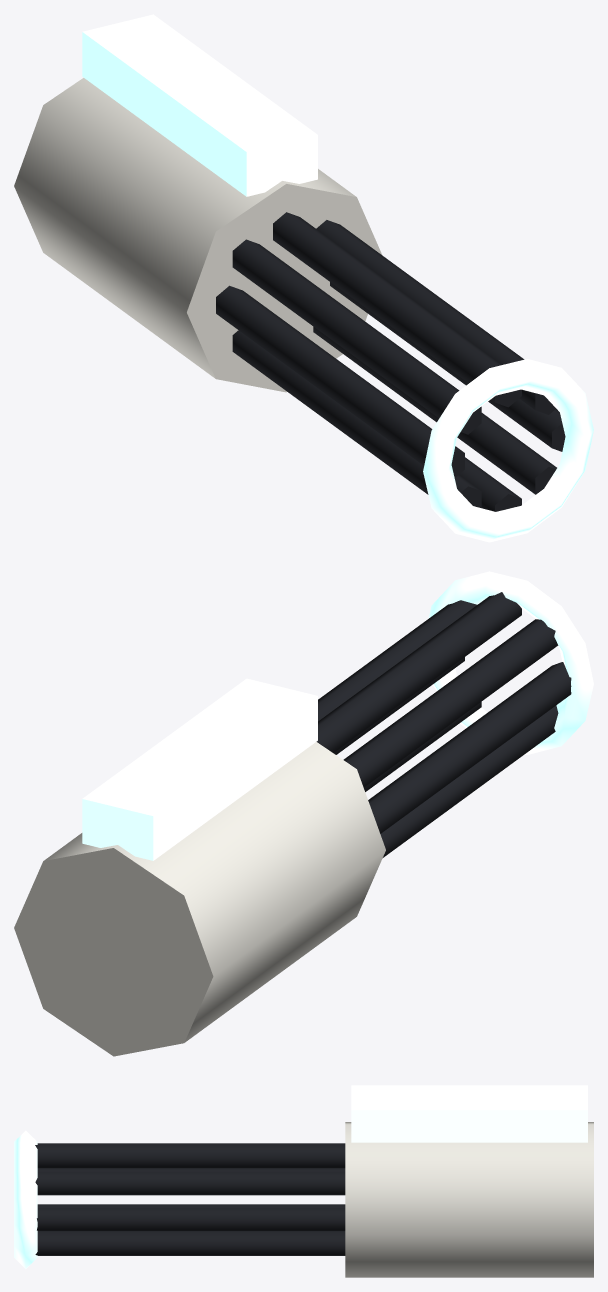
Rendered from wpn_omega_storm.glb.
3 renders of one model, top to bottom at view 1: azimuth 30°, elevation 25°; view 2: azimuth 150°, elevation 25°; view 3: azimuth 270°, elevation 25°, orthographic. The views are drawn at different scales.
Parts seen in each view (by area): view 1: weapon, barrels; view 2: weapon, barrels; view 3: weapon, barrels.
Boxes of the visible parts, x1,y1,x2,y2 form: weapon: (14,14,382,392); barrels: (216,212,593,542); weapon: (14,678,385,1056); barrels: (316,571,593,857); weapon: (345,1085,593,1277); barrels: (14,1130,345,1268).
Bounding box in the file's own units: 0.28 × 0.33 × 0.98.
